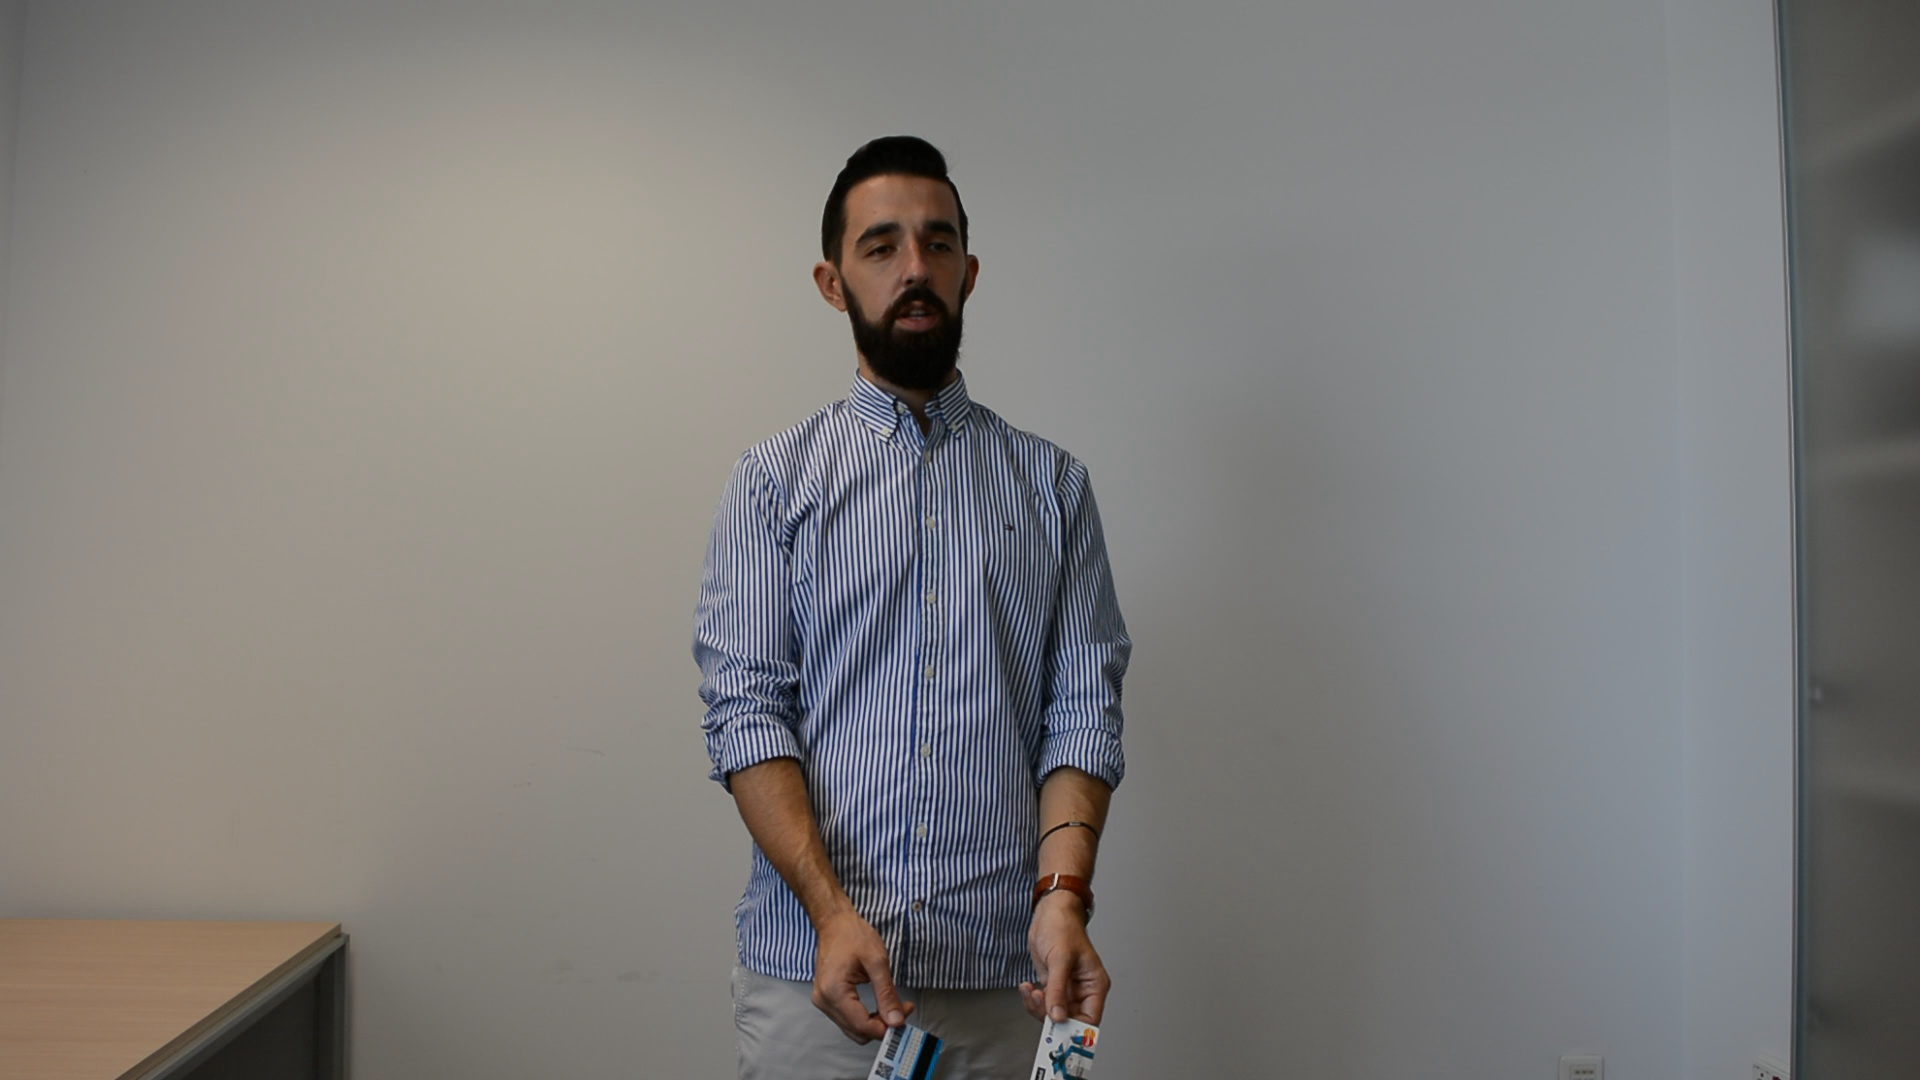tarjeta: (861, 1015, 948, 1080), (1030, 1007, 1101, 1080)
